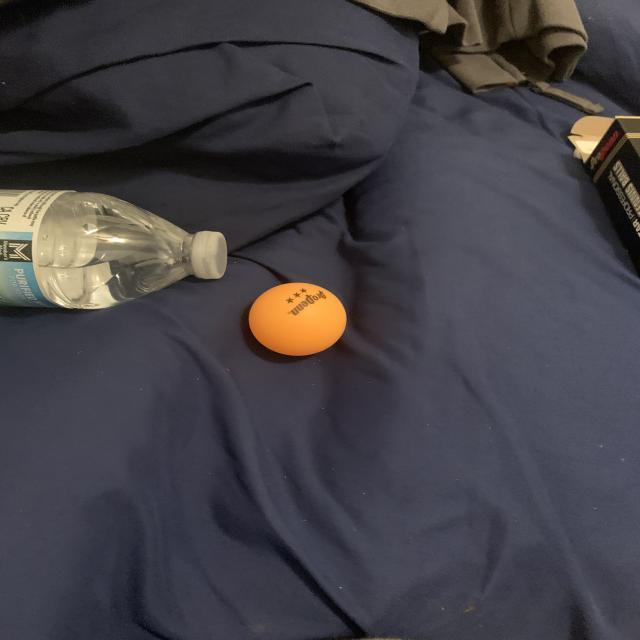ping-pong-ball: (242, 278, 352, 362)
